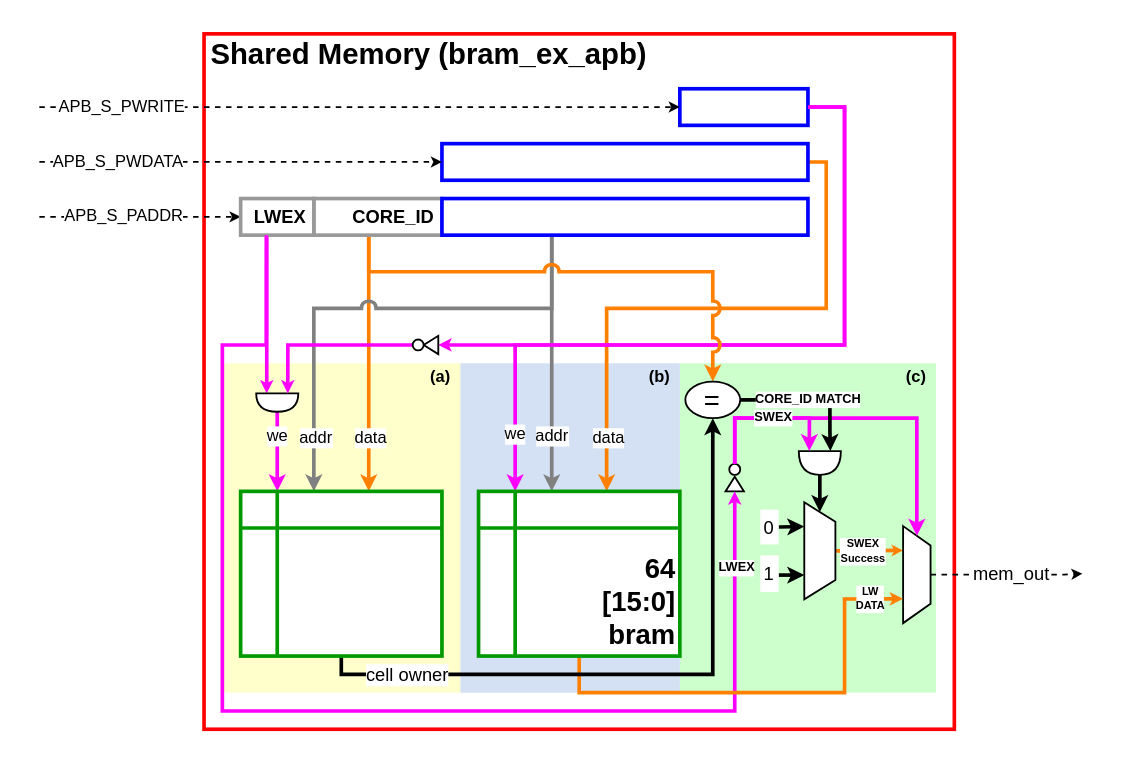
Some shapes in this 1124 by 761 pixel diagram are drawn without their labels. The centre of each missing label's shape, as x and y in pixels:
64 [2:0] ex_flags: the point at 340,573
ADDR[15:0]: the point at 624,216
DATA[15:0]: the point at 624,161
S_PWRITE: the point at 743,106
